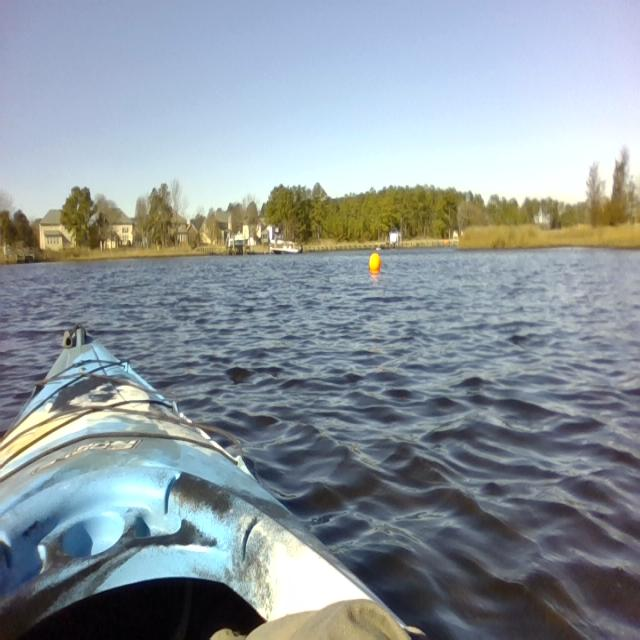Buoy: (362, 251, 384, 277)
